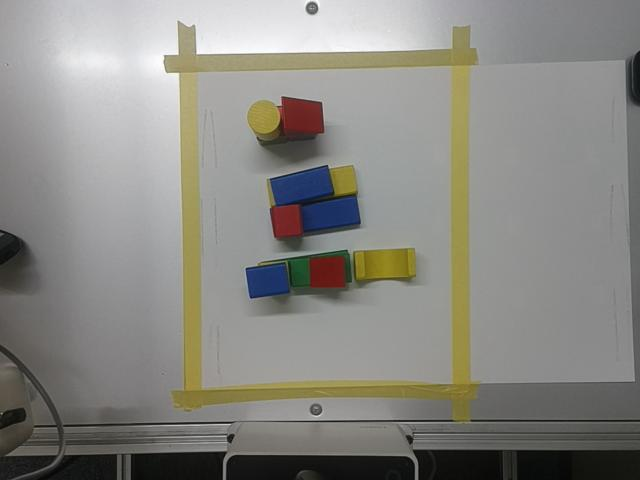blue_rect: (269, 166, 335, 206)
cylinder: (247, 100, 279, 134)
half_cylinder: (246, 264, 290, 299)
red_cube: (271, 206, 303, 238)
triangle: (282, 97, 325, 132), (309, 257, 345, 288)
yellow_archrect: (354, 249, 416, 281)
